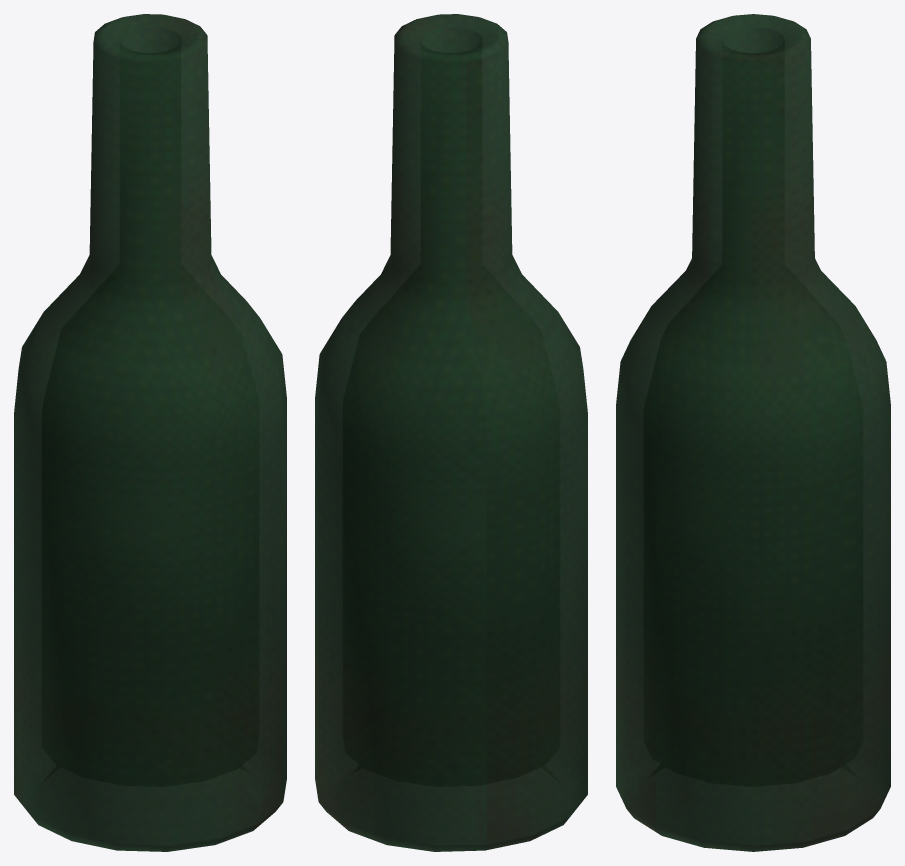
File: BottleWine01.fbx
3 renders of one model, left to right at view 1: azimuth 30°, elevation 25°; view 2: azimuth 150°, elevation 25°; view 3: azimuth 270°, elevation 25°, orthographic.
Visible parts, largest first — view 1: BottleWine01; view 2: BottleWine01; view 3: BottleWine01.
Boxes of the visible parts, bbox=[...] form: BottleWine01: bbox=[14, 14, 286, 851]; BottleWine01: bbox=[315, 14, 587, 851]; BottleWine01: bbox=[616, 14, 890, 851].
Bounding box in the file's own units: 0.1408 × 0.4308 × 0.1408.
Materials: 1 (1 with a texture image).
